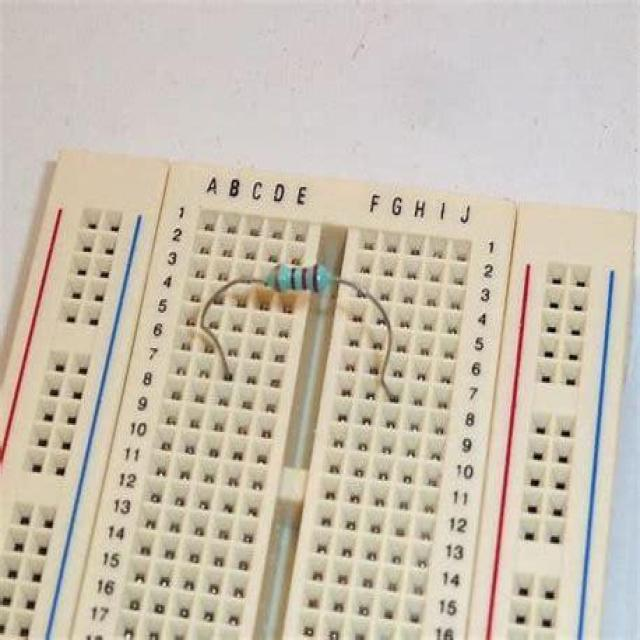Capacitor: (200, 263, 394, 400)
